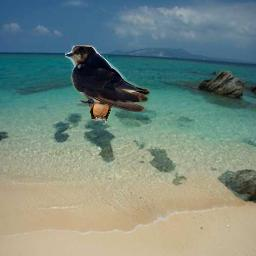Swallow: (65, 45, 150, 112), (89, 89, 114, 123)
